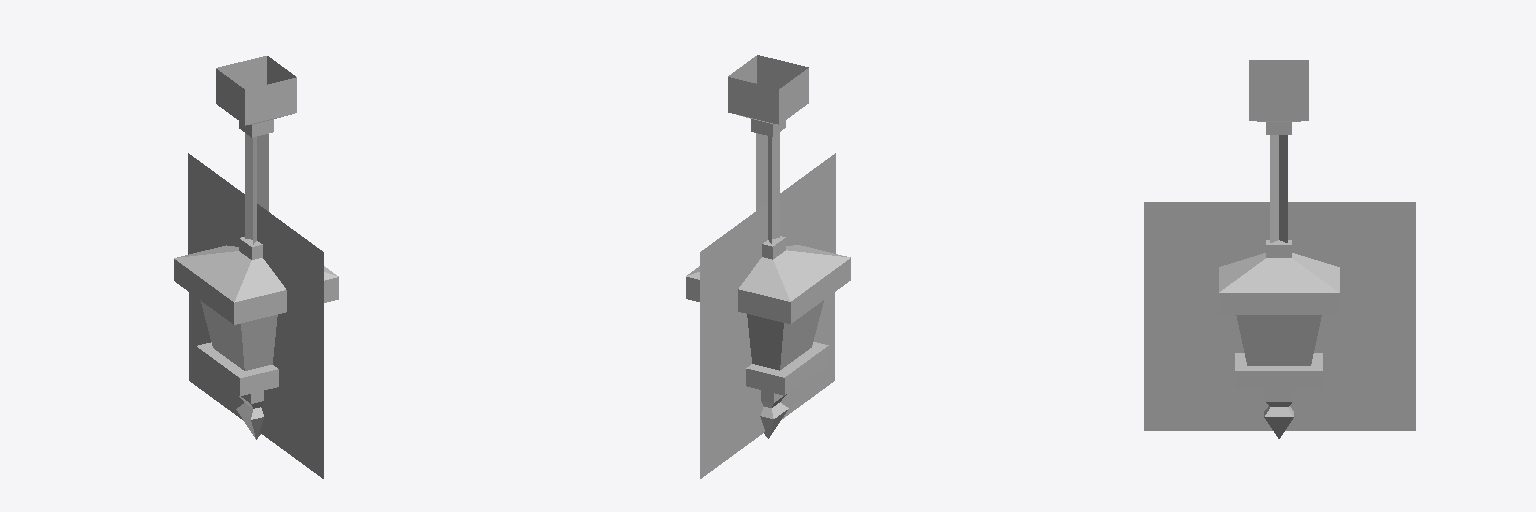
Rendered from generalhanginglantern01.obj.
The picture shows the model from 3 angles: view 1: azimuth 30°, elevation 25°; view 2: azimuth 150°, elevation 25°; view 3: azimuth 270°, elevation 25°; orthographic projection.
Visible parts, largest first — view 1: generalhanginglantern012, generalhanginglantern011, generalhanginglantern010; view 2: generalhanginglantern012, generalhanginglantern011, generalhanginglantern010; view 3: generalhanginglantern012, generalhanginglantern011, generalhanginglantern010.
Boxes of the visible parts, <box> form: generalhanginglantern012: <box>188,153,323,478</box>; generalhanginglantern011: <box>174,56,338,439</box>; generalhanginglantern010: <box>200,300,277,370</box>; generalhanginglantern012: <box>700,153,835,478</box>; generalhanginglantern011: <box>686,55,850,438</box>; generalhanginglantern010: <box>747,300,823,370</box>; generalhanginglantern012: <box>1144,202,1415,430</box>; generalhanginglantern011: <box>1219,60,1339,438</box>; generalhanginglantern010: <box>1236,315,1321,365</box>.
Size of the model in its own units: 0.7106 by 2.37 by 1.59.